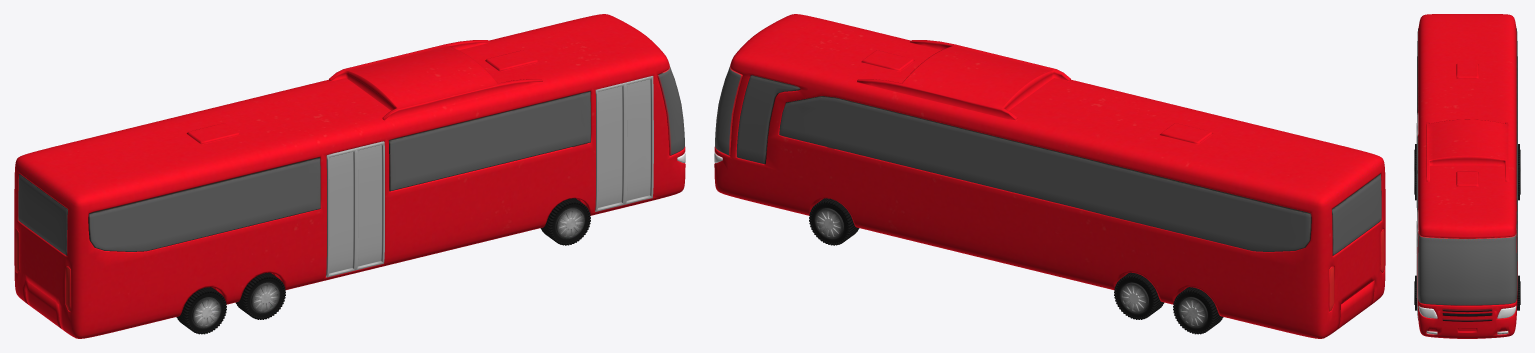
Rendered from guagua.glb.
3 renders of one model, left to right at view 1: azimuth 30°, elevation 25°; view 2: azimuth 150°, elevation 25°; view 3: azimuth 270°, elevation 25°, orthographic. The views are drawn at different scales.
Visible parts, largest first — view 1: Body, Glass, Door, Wheels; view 2: Body, Glass, Wheels; view 3: Body, Glass, Wheels, Door, Light_Front.
Boxes of the visible parts, x1,y1,x2,y2 form: Body: (14,14,685,338); Glass: (18,66,684,255); Door: (326,76,653,277); Wheels: (176,198,590,334); Body: (714,14,1385,338); Glass: (715,66,1381,255); Wheels: (809,198,1223,334); Body: (1417,14,1517,338); Glass: (1417,28,1517,305); Wheels: (1414,144,1520,310); Door: (1416,113,1418,320); Light_Front: (1418,306,1516,318).
Bounding box in the file's own units: 0.9448 × 0.2545 × 0.1877.
Materials: 1 (1 with a texture image).
